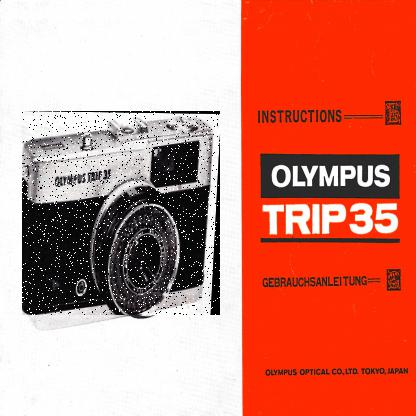Camera: (23, 112, 222, 317)
